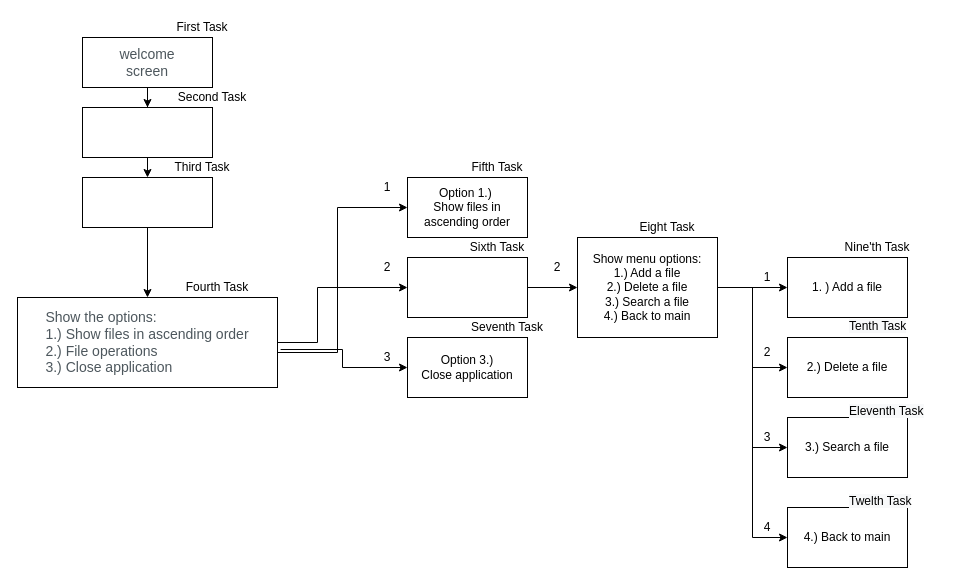
This 955x585 diagram has some shape labels left out. Each missing label, with the centre of its shape:
App name, developer details: [147,132]
Option 2.) File Operations: [467,287]
Show Main Menu: [147,202]
